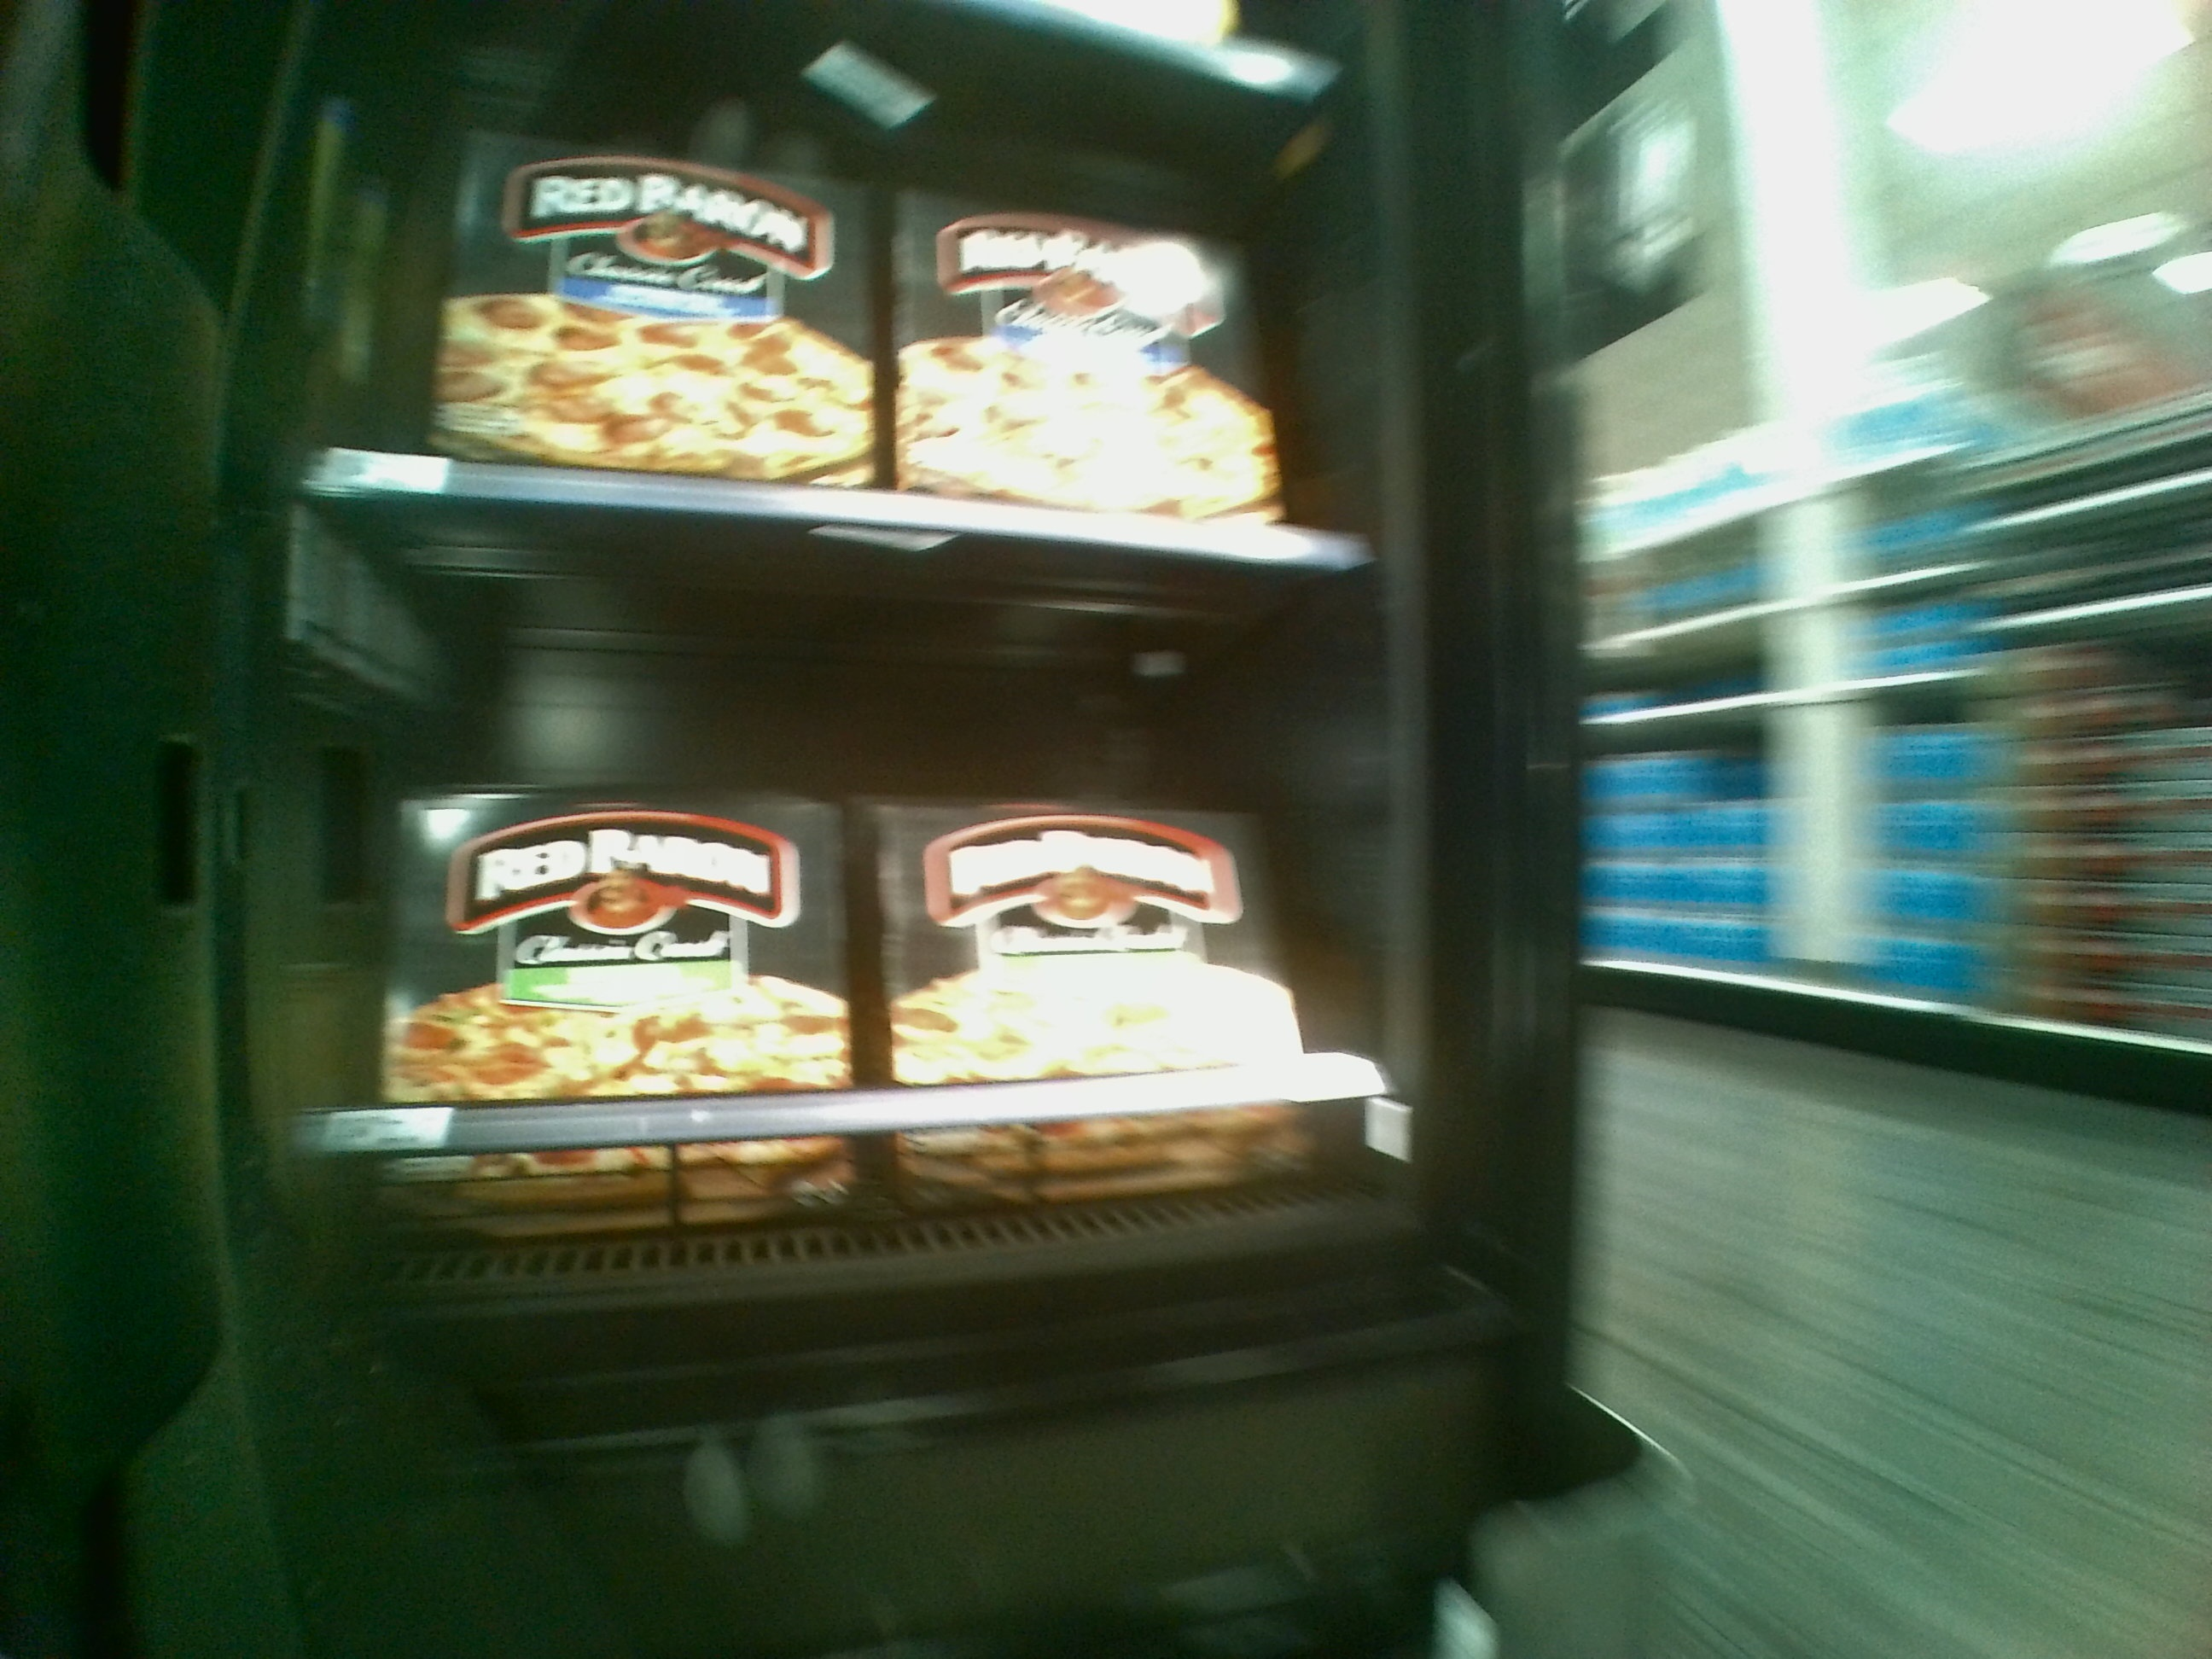shelf: (315, 537, 1409, 1236)
